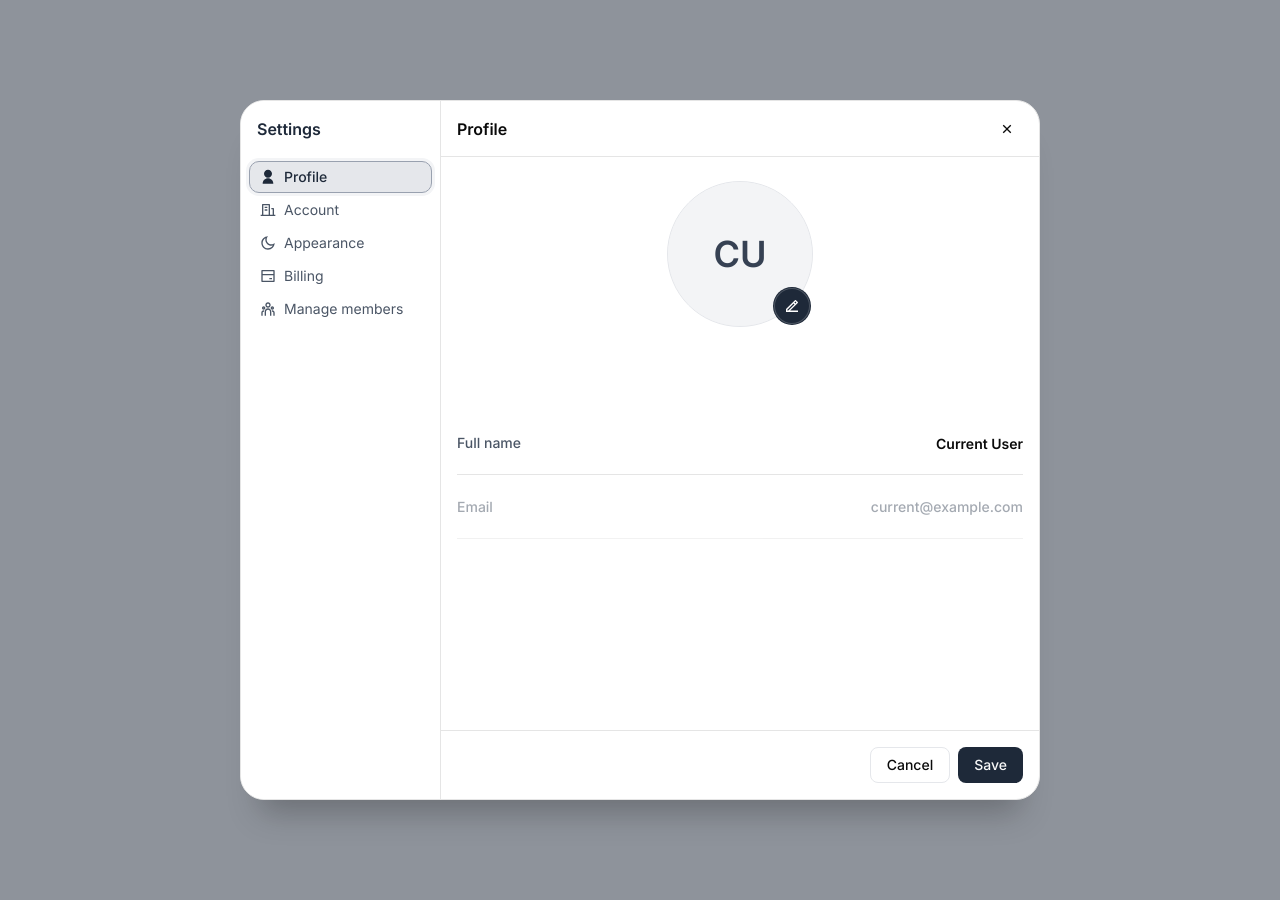
Test case: SettingsDialog › changes the password and signs out other sessions after a successful request
The width and height of the screenshot is (1280, 900).
Step 1. Click the button "Account" → (340, 210), box [249,194,432,226]
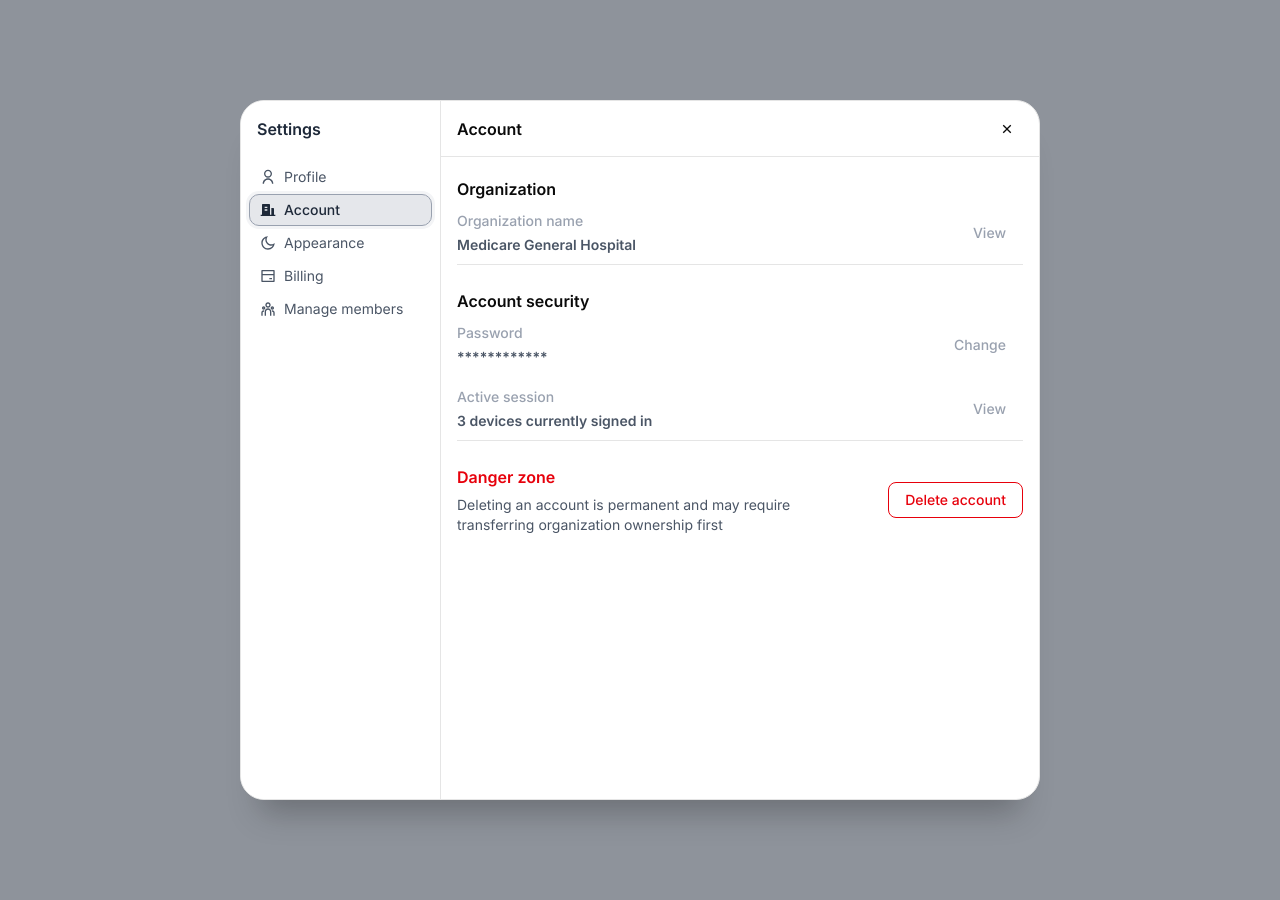
Step 2. Click the button with aria-label "Change password" → (980, 345), box [937,327,1023,363]
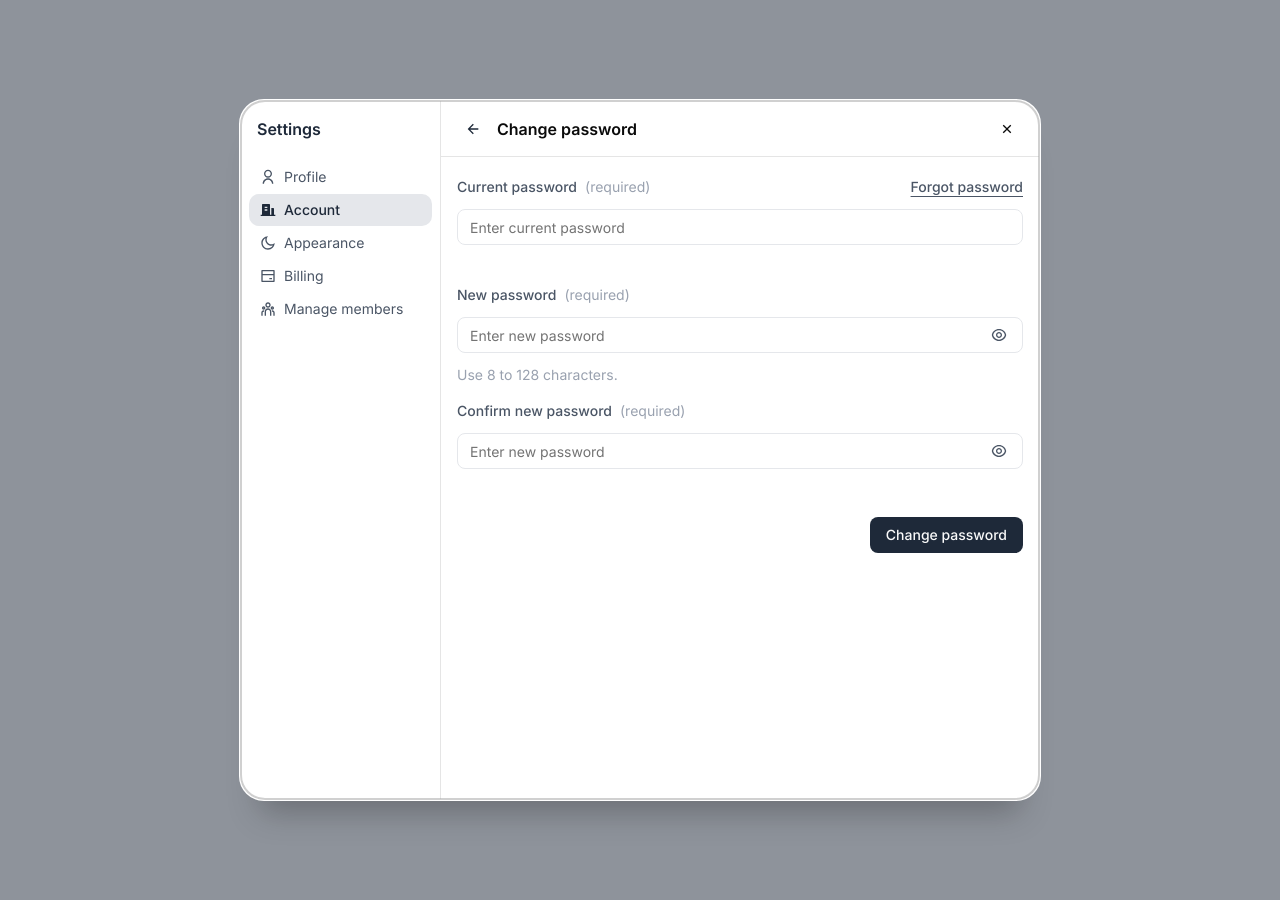
Step 3. Type "OldPass12" into the password field labelled "Current password (required)" → (740, 227), box [457,209,1023,245]
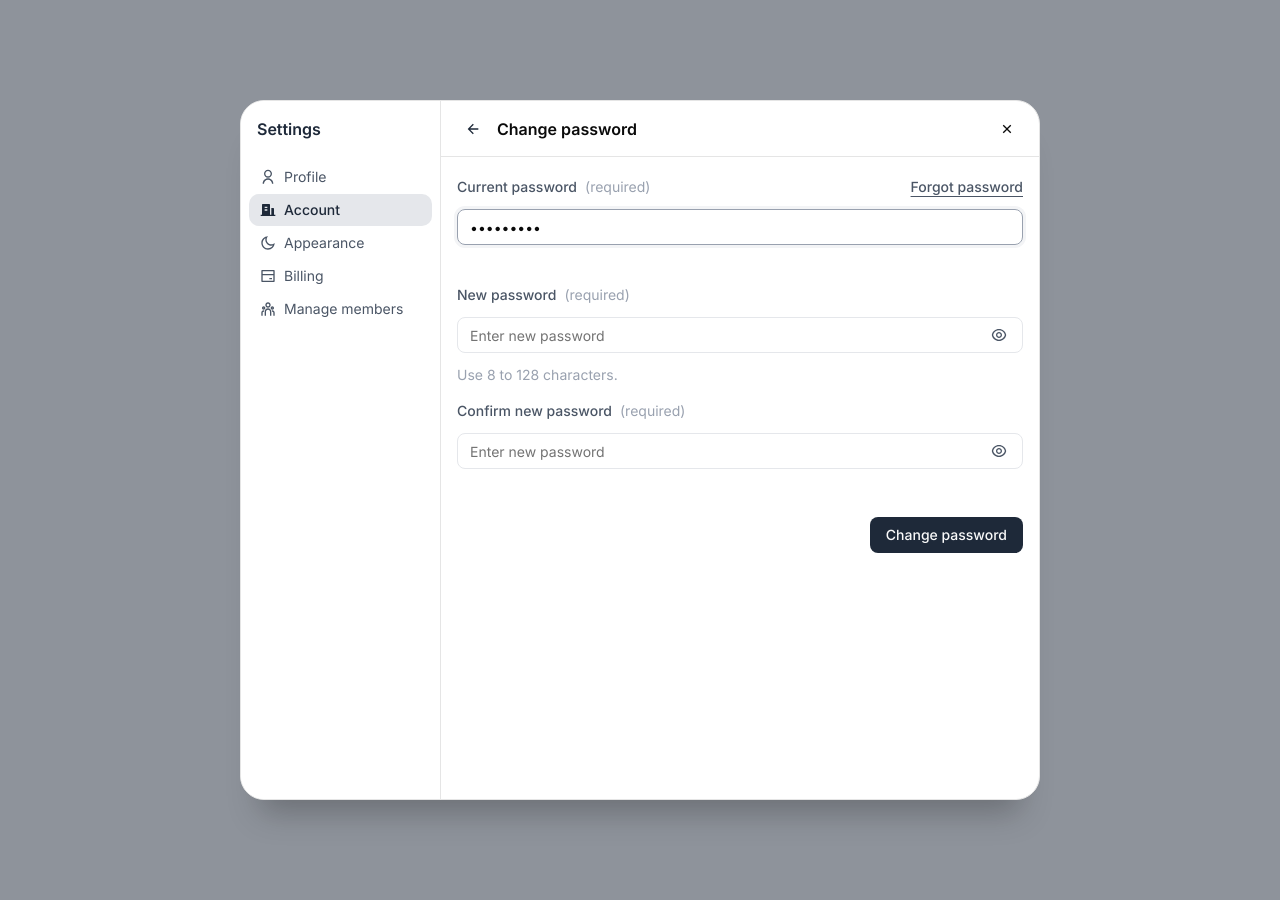
Step 4. Type "NewPass12" into the password field labelled "New password (required)" → (740, 335), box [457,317,1023,353]
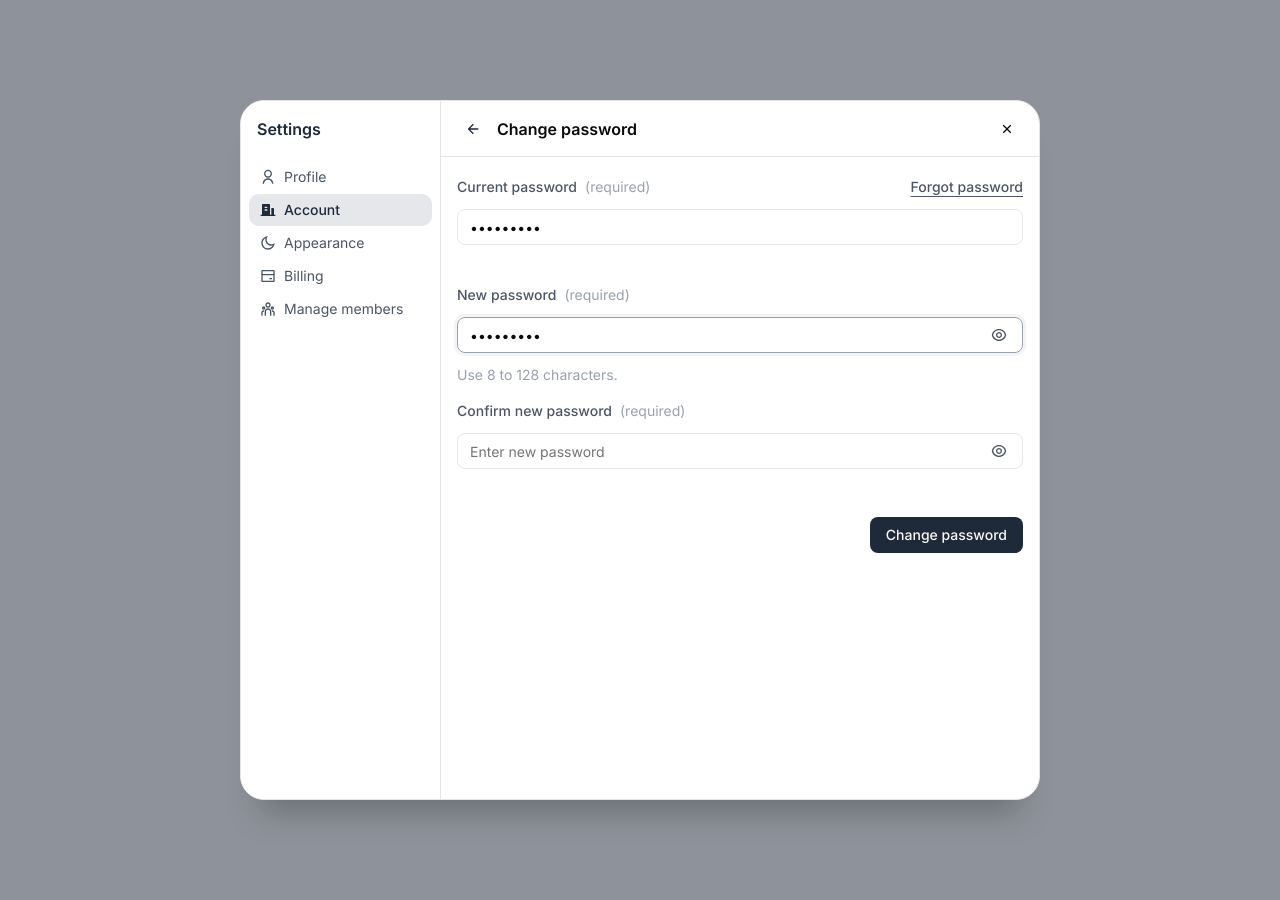
Step 5. Type "NewPass12" into the password field labelled "Confirm new password (required)" → (740, 451), box [457,433,1023,469]
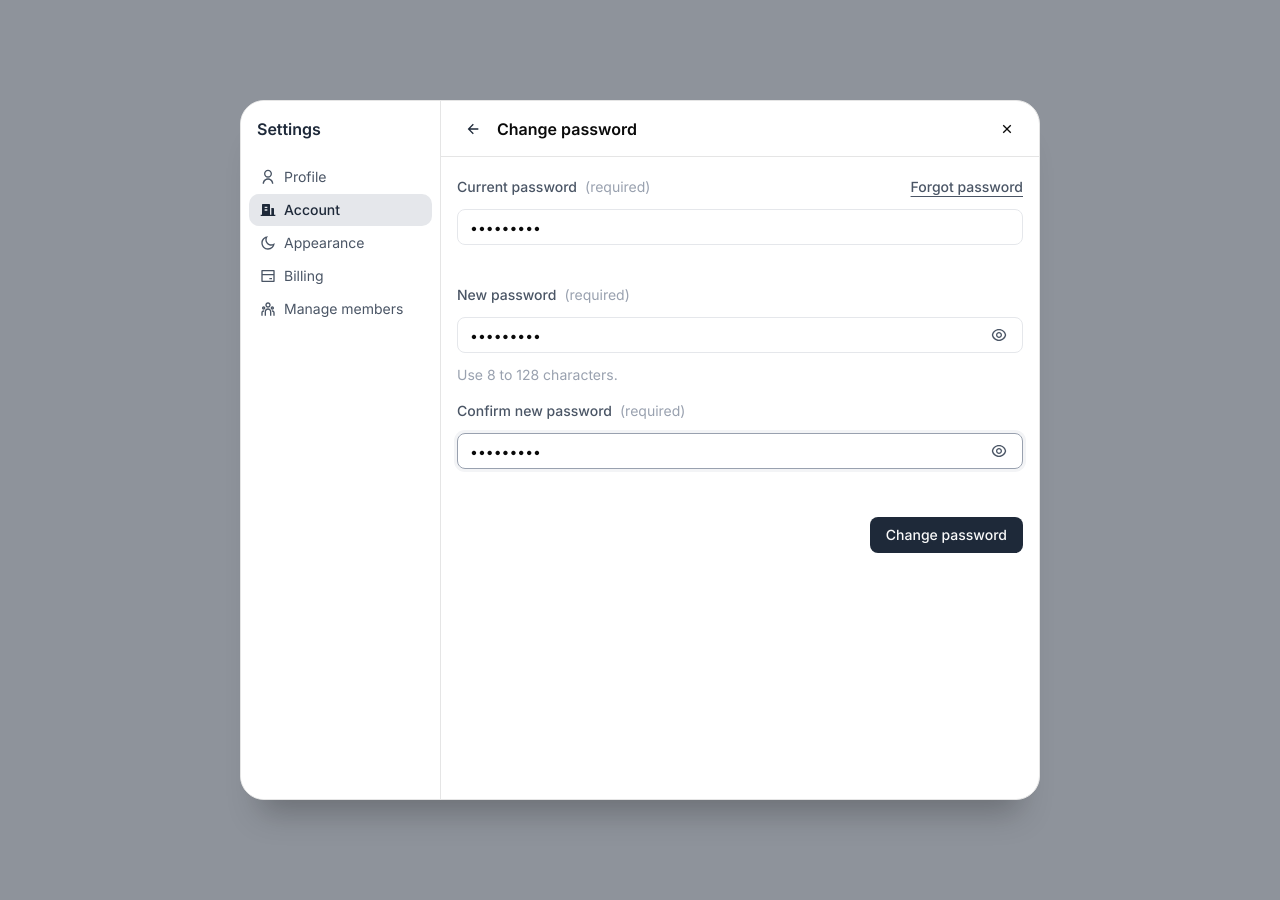
Step 6. Click the button "Change password" → (946, 535), box [870,517,1023,553]
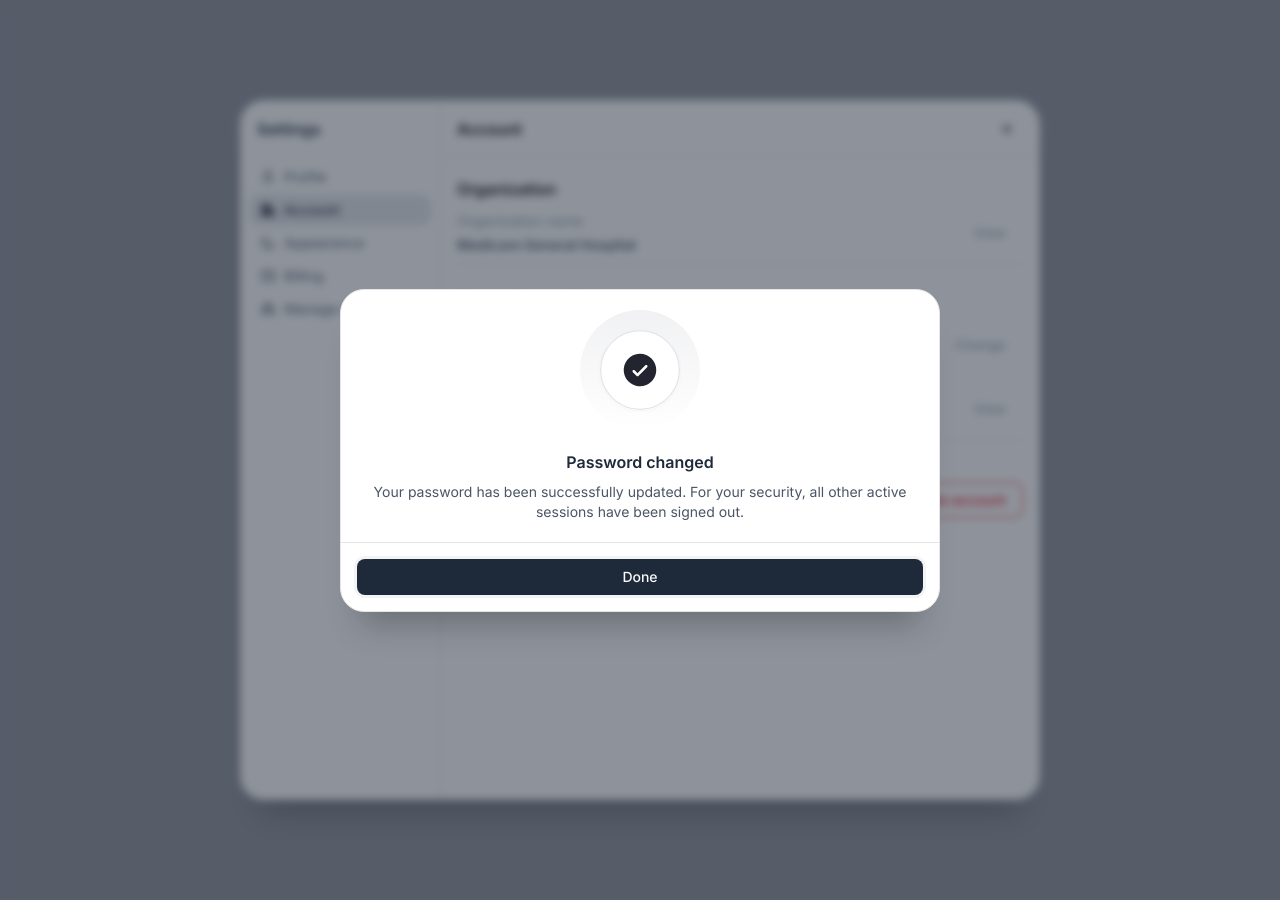
Now the dialog "Password changed" is shown, box [340,288,940,612]
